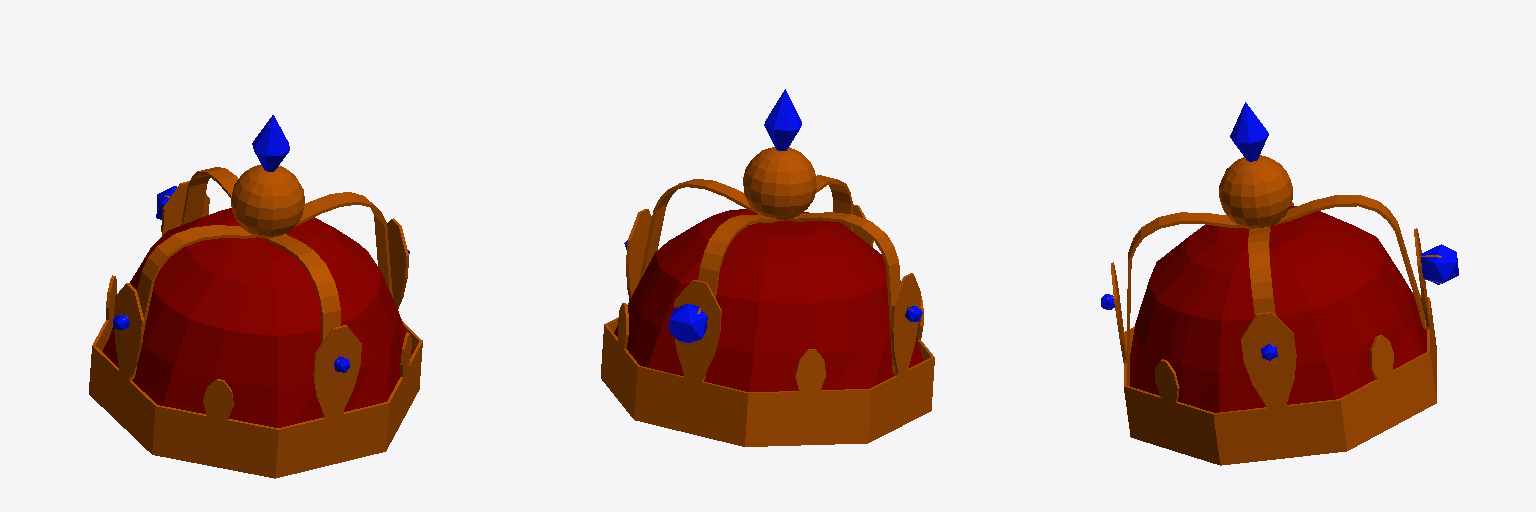
File: crown_royal.sgm.obj
3 views of the same model, side by side, from view 1: azimuth 30°, elevation 25°; view 2: azimuth 150°, elevation 25°; view 3: azimuth 270°, elevation 25° (orthographic).
Parts seen in each view (by area): view 1: 0, 1, 2; view 2: 0, 1, 2; view 3: 1, 0, 2.
Part boxes in pixels (x1,y1,x2,y2): 0: (89, 165, 422, 478); 1: (102, 208, 413, 427); 2: (113, 115, 409, 372); 0: (601, 147, 934, 446); 1: (614, 209, 922, 391); 2: (624, 89, 922, 342); 1: (1130, 206, 1426, 412); 0: (1107, 155, 1441, 465); 2: (1101, 102, 1458, 360).
Size of the model in its own units: 0.4508 by 0.4536 by 0.4771.